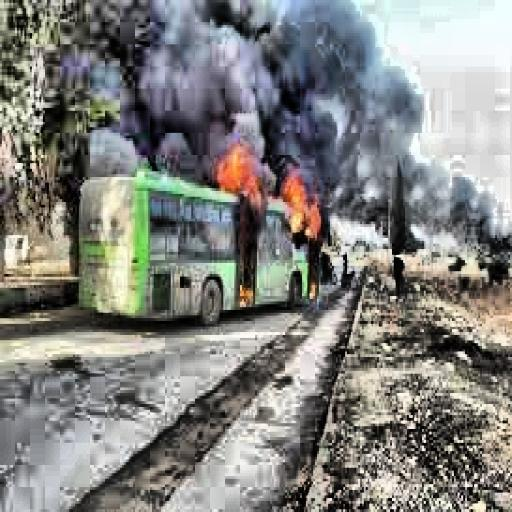fire: (204, 144, 276, 304)
